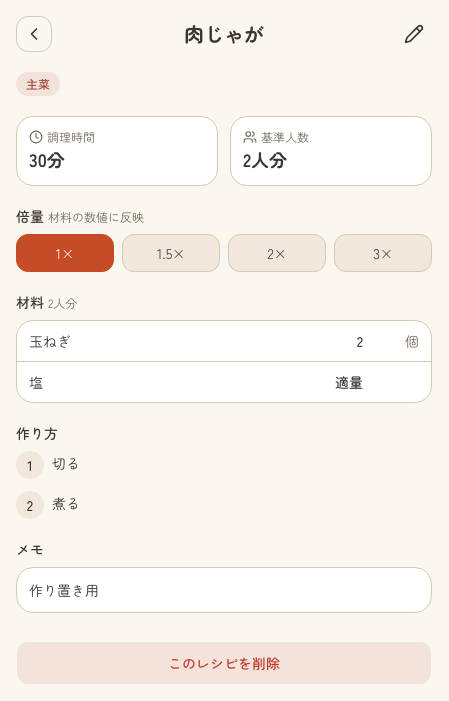
Scenario: RecipeDetailClient › RDC-01b: 倍量切り替えで材料の数値と人数表示がスケールされる
The image size is (449, 701).
Step 1. Click the button "2×" → (277, 253), box [228,234,326,272]
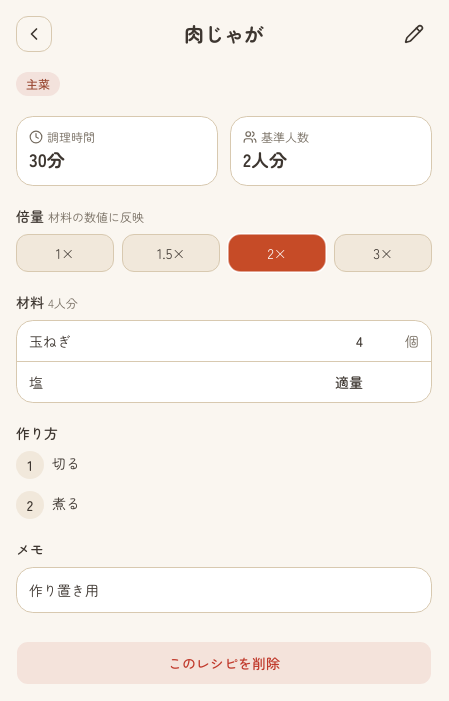
Expected: the text "適量" is shown, [335,372,363,392]
Expected: the text "4人分" is shown, [48,294,78,311]
Expected: the text "4" is shown, [356,331,363,351]
